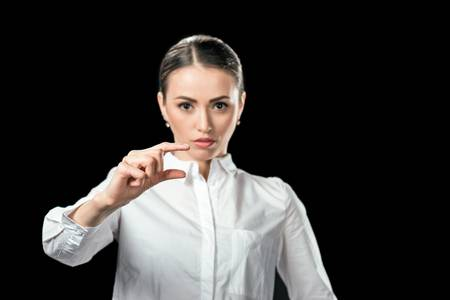S_shirt: (35, 148, 336, 300)
